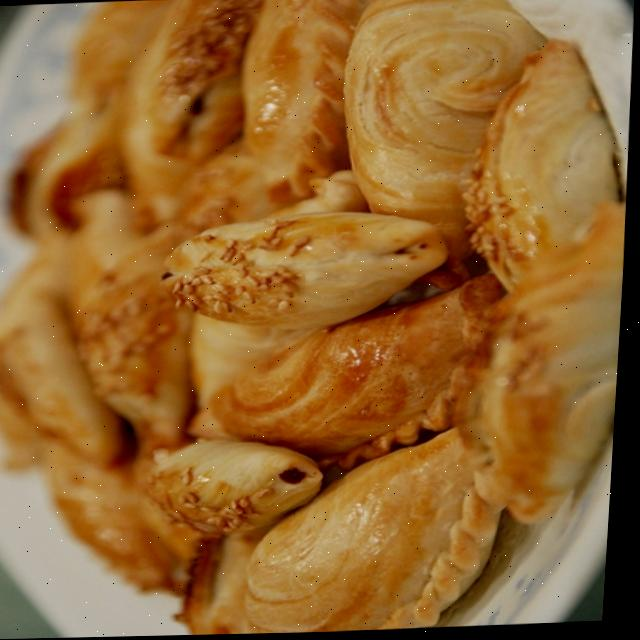炸货点心: (0, 14, 620, 631)
